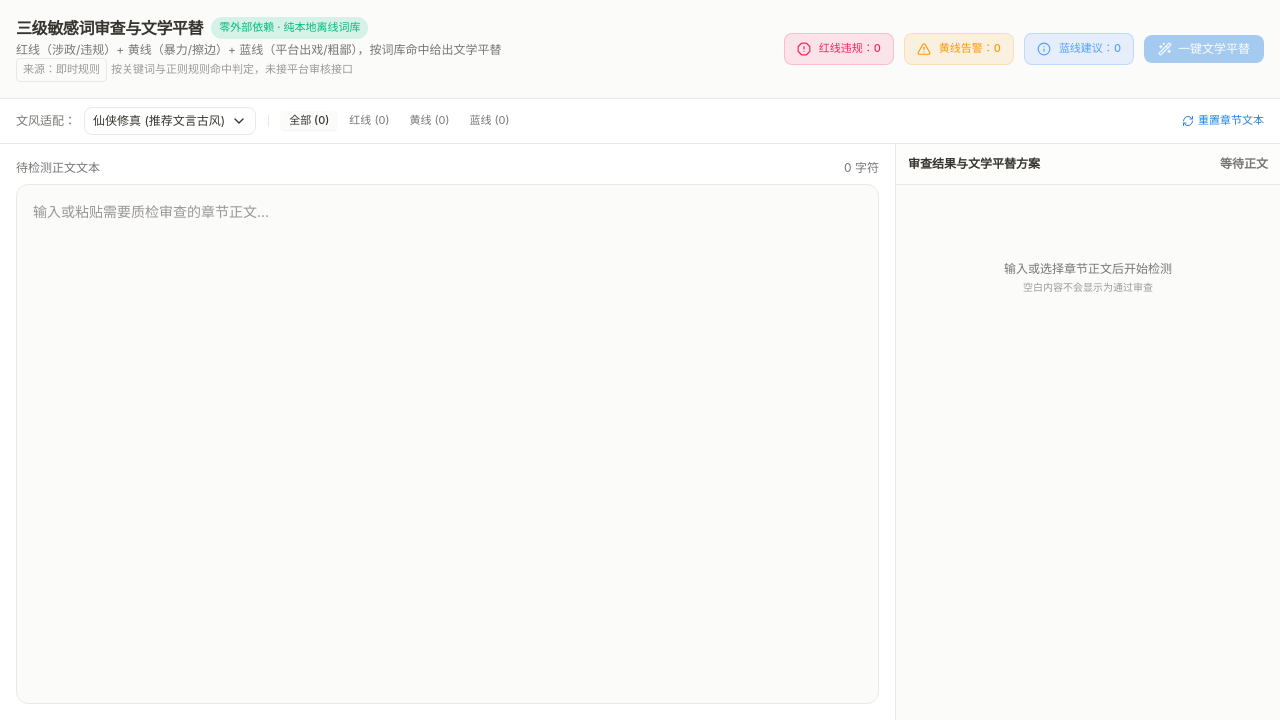
Test: SafeGateView — 敏感词审查与文学平替主视口 › performs one-click batch literary replacement
In the text box: (448, 444) x1=16 y1=184 x2=879 y2=704, type "林枫手持利刃杀入敌阵，刹那间血肉横飞，场面开膛破肚惨不忍睹。后方政府与公安局的飞舟正在赶来。"
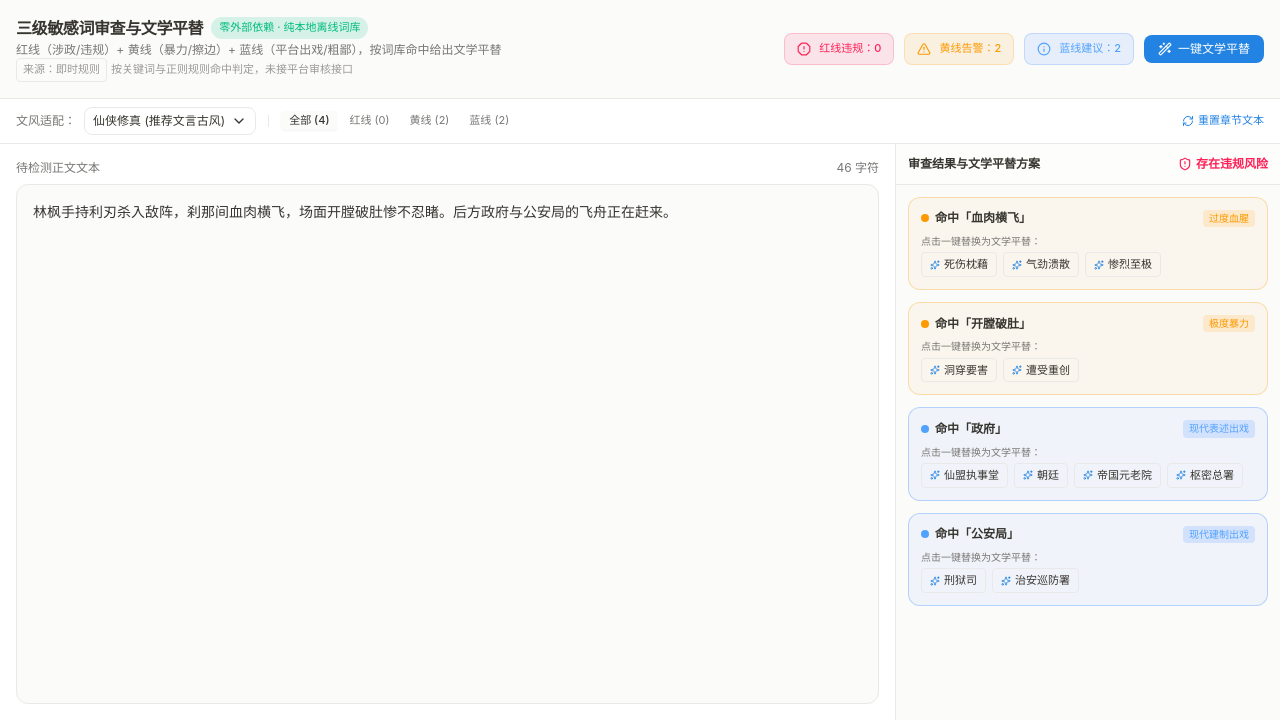
Click the button "一键文学平替": (1204, 49) x1=1144 y1=35 x2=1264 y2=63
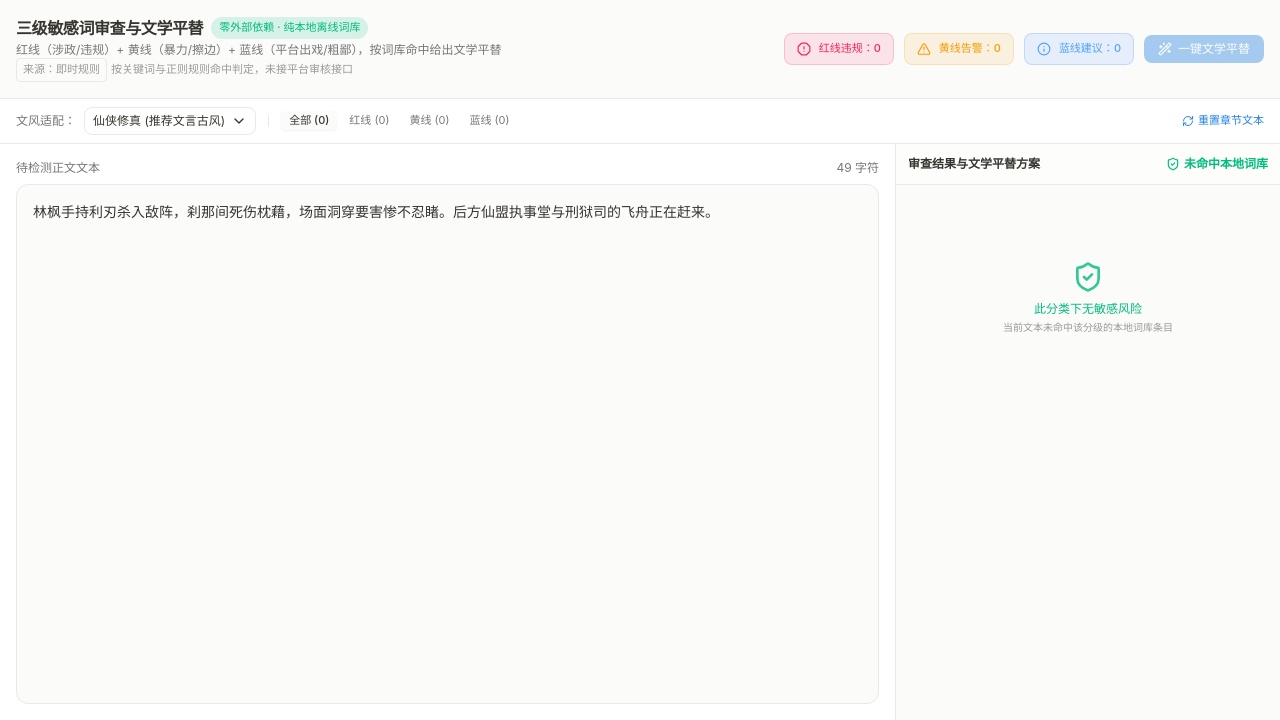
Expected: the text "此分类下无敏感风险" is shown, x1=1034 y1=301 x2=1142 y2=316
Expected: the text "未命中本地词库" is shown, x1=1166 y1=156 x2=1268 y2=172
